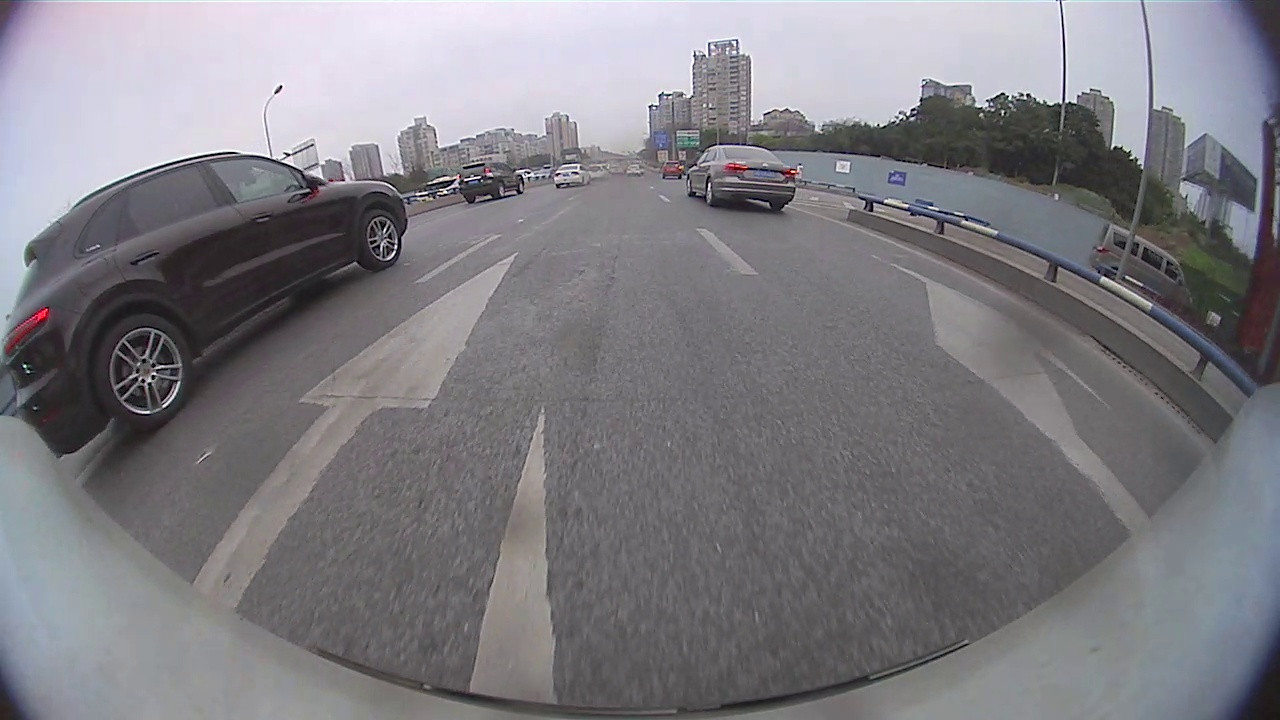car: (1, 147, 412, 461), (1086, 218, 1197, 324), (682, 142, 803, 214), (456, 159, 528, 205), (553, 162, 592, 190)
front: (358, 209, 403, 274), (686, 177, 695, 200), (514, 179, 526, 196)
rear: (99, 313, 193, 431), (703, 179, 716, 208), (496, 181, 506, 200)
